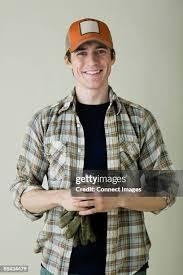cap: (59, 11, 119, 56)
